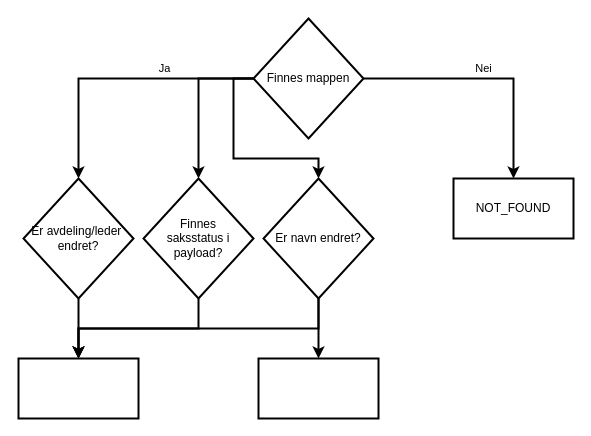
This 591x436 diagram has some shape labels left out. Here are the shapes that lost their labels. From the top down, the box of each, then its label:
(17, 357, 139, 419): Oppdater personalmappe
(257, 357, 379, 419): Oppdater klassifikasjon
